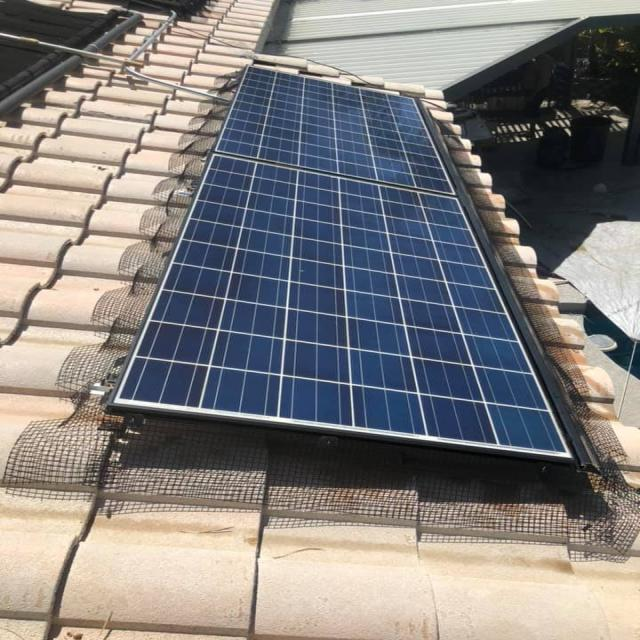clean-solar-panel: (112, 66, 572, 460)
